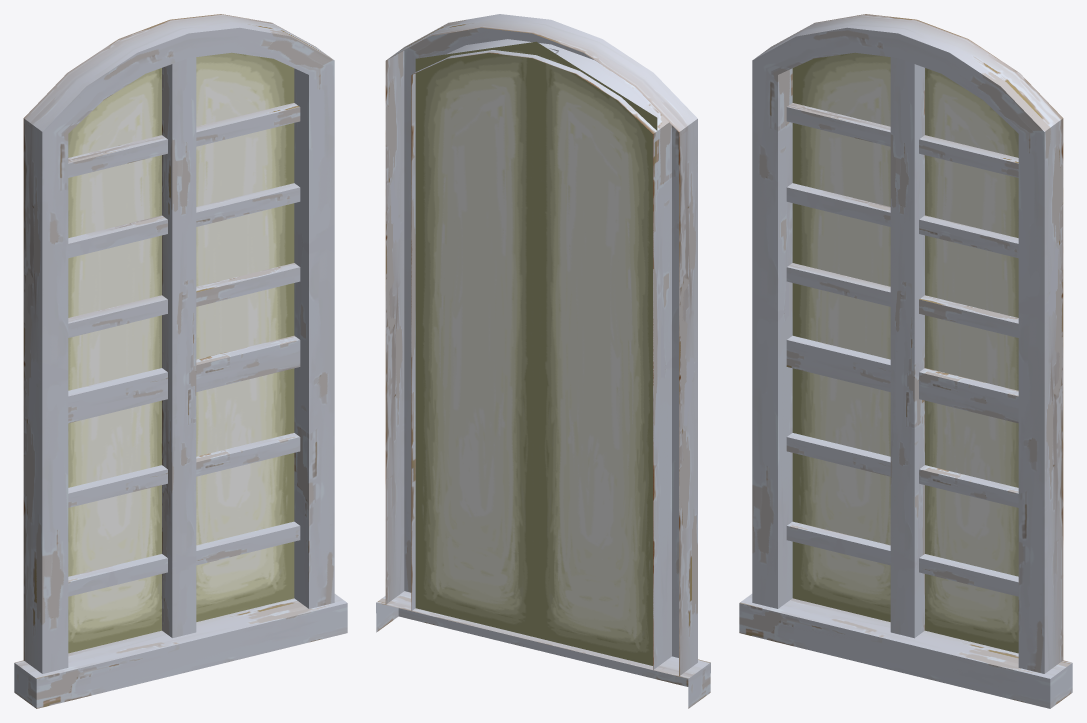
Rendered from MOD_Window_03_05.fbx.
The picture shows the model from 3 angles, left to right: view 1: azimuth 30°, elevation 25°; view 2: azimuth 150°, elevation 25°; view 3: azimuth 330°, elevation 25°; orthographic projection.
Parts seen in each view (by area): view 1: MOD_Window_03_05; view 2: MOD_Window_03_05; view 3: MOD_Window_03_05.
Boxes of the visible parts, x1,y1,x2,y2 form: MOD_Window_03_05: [14, 14, 347, 708]; MOD_Window_03_05: [376, 14, 710, 708]; MOD_Window_03_05: [739, 14, 1072, 708].
Size of the model in its own units: 130 by 254 by 16.14.
